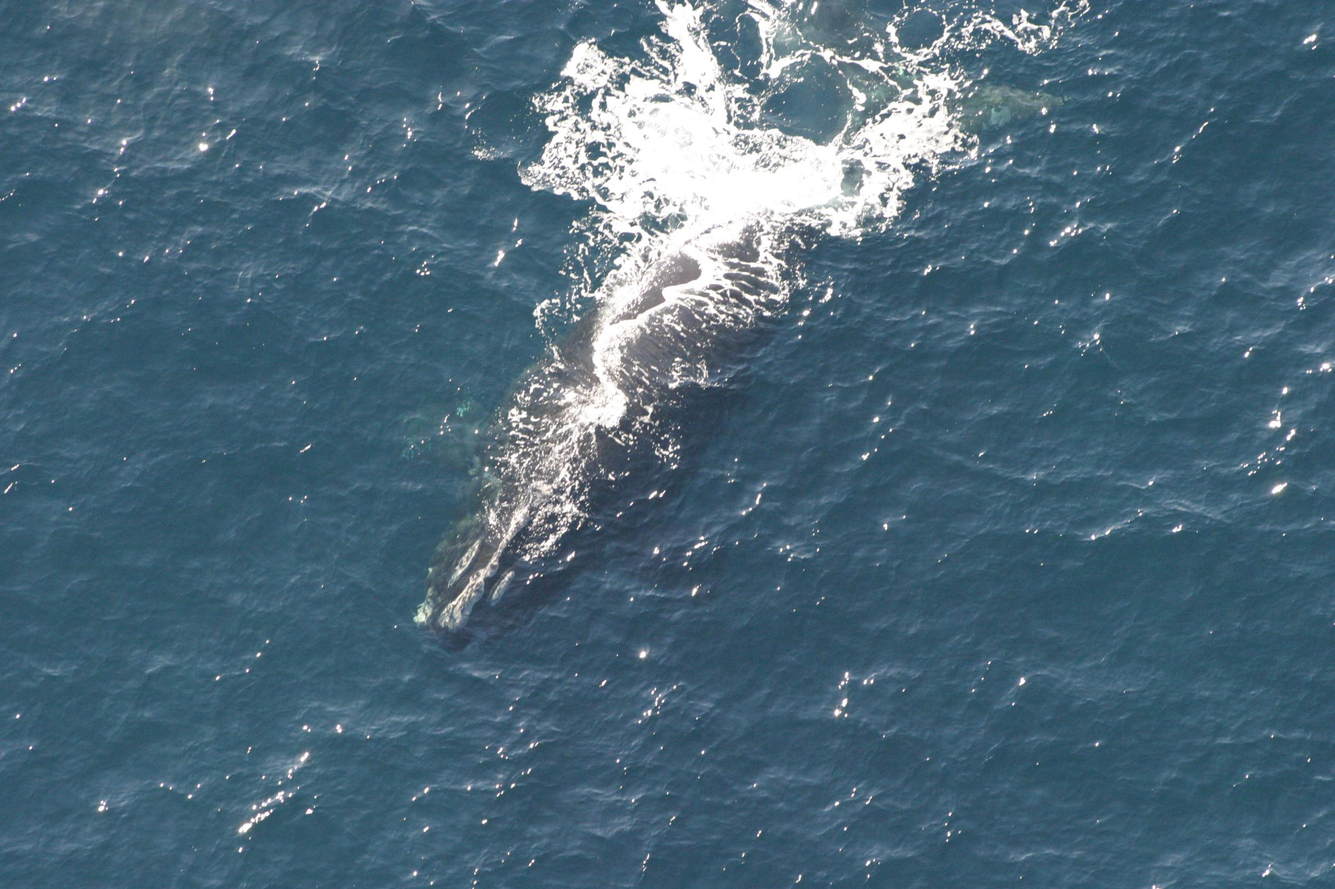whale: (391, 2, 1073, 667)
